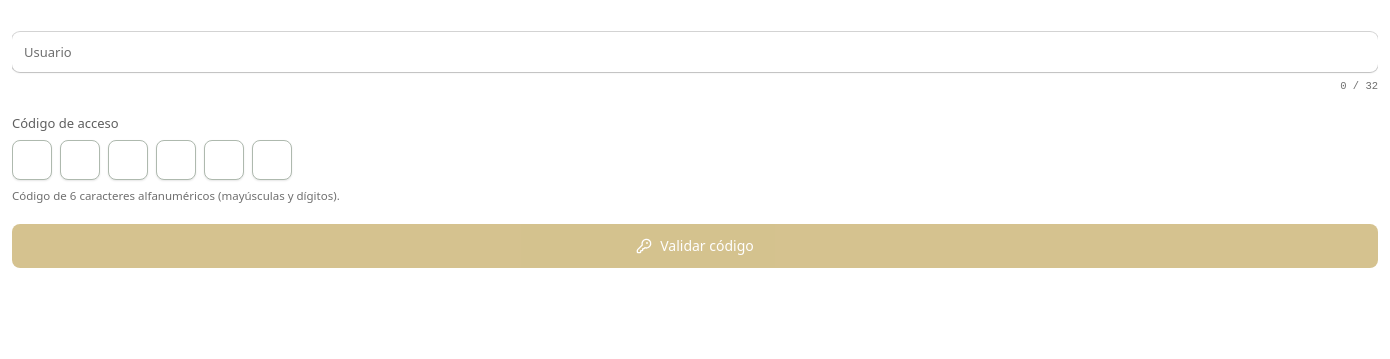
LoginFormOtp (single-step username + OTP, gold-box restyle) › surfaces a rate_limited error from the backend
Type "admin" into the field with test id "login-username".
click(695, 52); type("admin")  # box left=12, top=32, right=1378, bottom=72
Type "1" into the field labelled "Código de acceso".
click(32, 160); type("1")  # box left=12, top=140, right=52, bottom=180
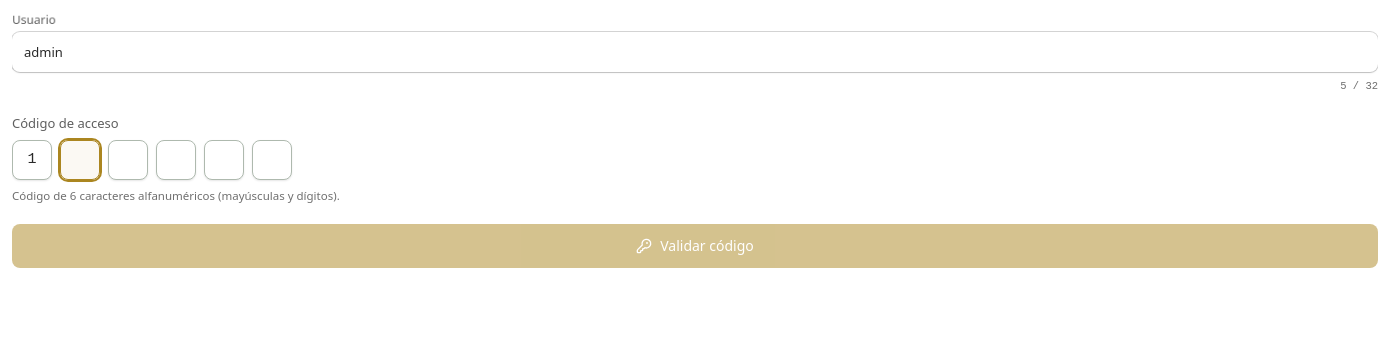
Type "1" into the field named "Digit 2 of 6".
click(80, 160); type("1")  # box left=60, top=140, right=100, bottom=180
Type "1" into the field named "Digit 3 of 6".
click(128, 160); type("1")  # box left=108, top=140, right=148, bottom=180
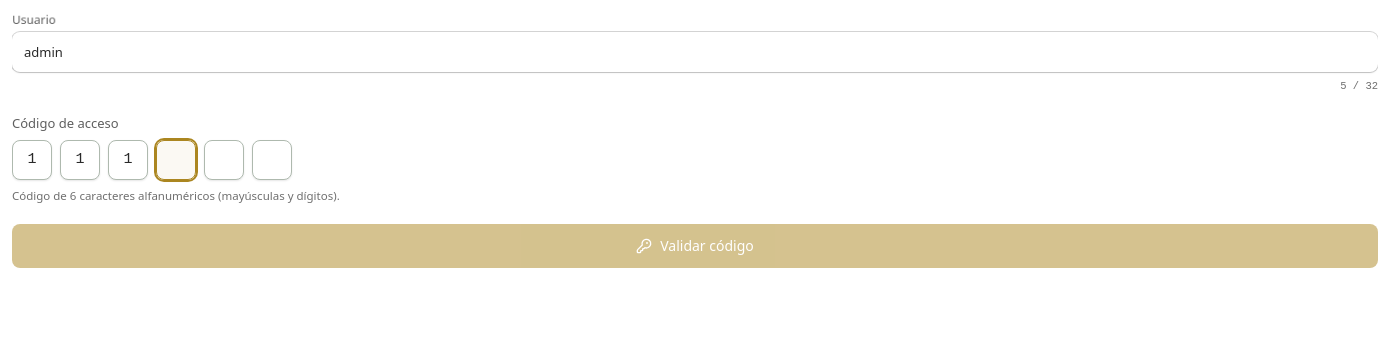
Type "1" into the field named "Digit 4 of 6".
click(176, 160); type("1")  # box left=156, top=140, right=196, bottom=180
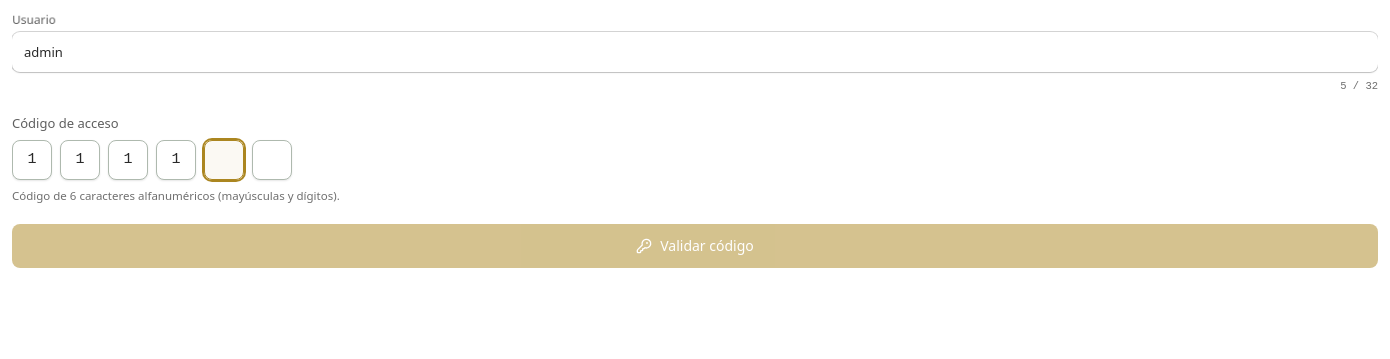
Type "1" into the field named "Digit 5 of 6".
click(224, 160); type("1")  # box left=204, top=140, right=244, bottom=180
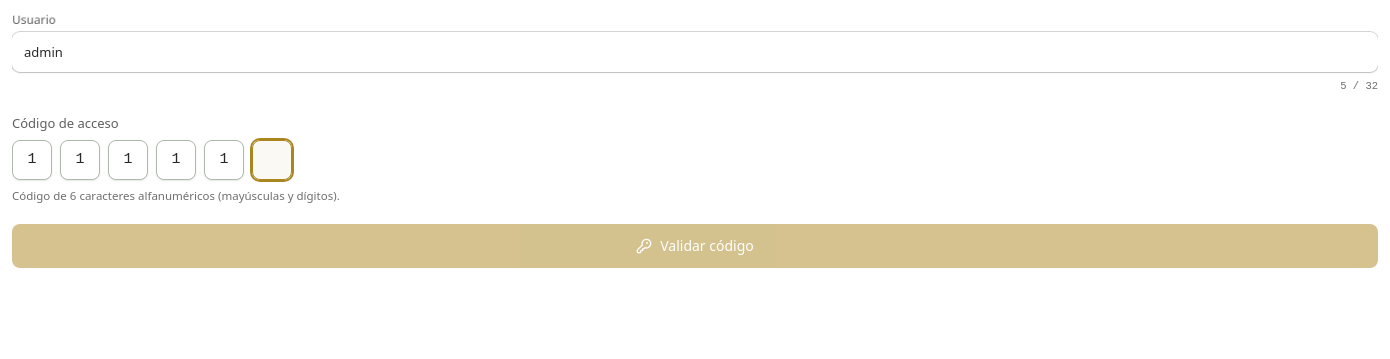
Type "1" into the field named "Digit 6 of 6".
click(272, 160); type("1")  # box left=252, top=140, right=292, bottom=180
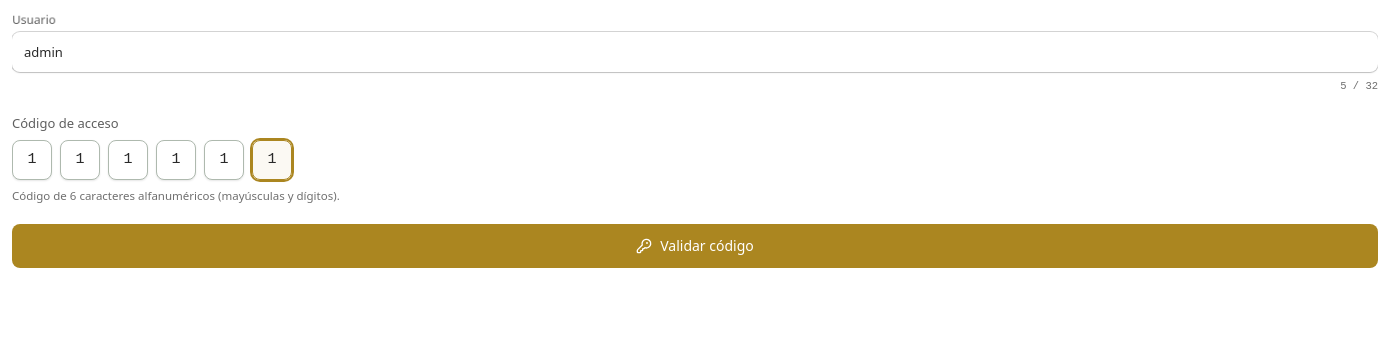
Click the button with test id "login-submit".
click(695, 246)  # box left=12, top=224, right=1378, bottom=268
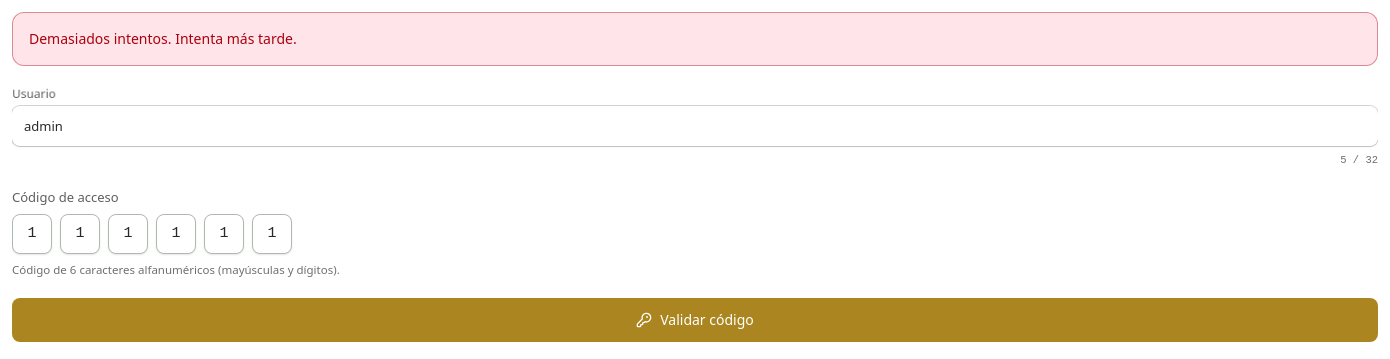
Now the message "Demasiados intentos. Intenta más tarde." is shown, box left=12, top=12, right=1378, bottom=66
Now the message with test id "login-error" shows "Demasiados", box left=29, top=29, right=297, bottom=48
